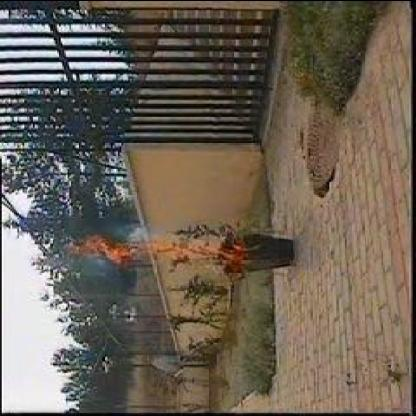foggia-v2-map80-epoch100 - v1 4323: (63, 236, 249, 268)
